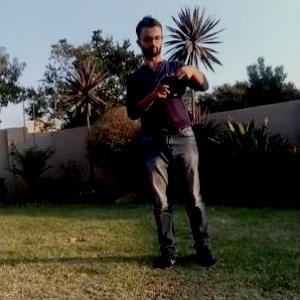follow: (119, 5, 220, 271)
